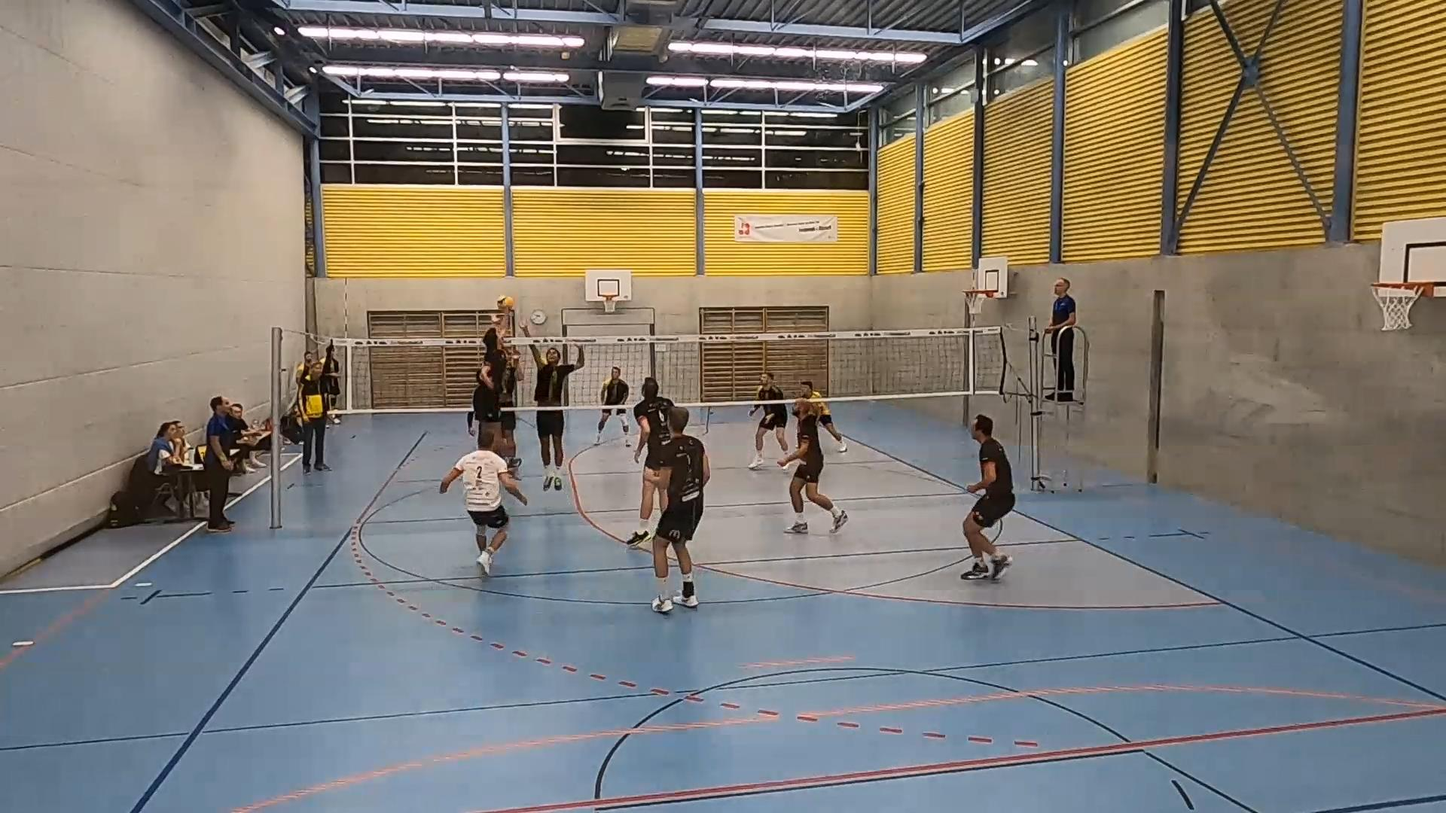attacco: (471, 315, 523, 474)
muro: (521, 322, 588, 491)
